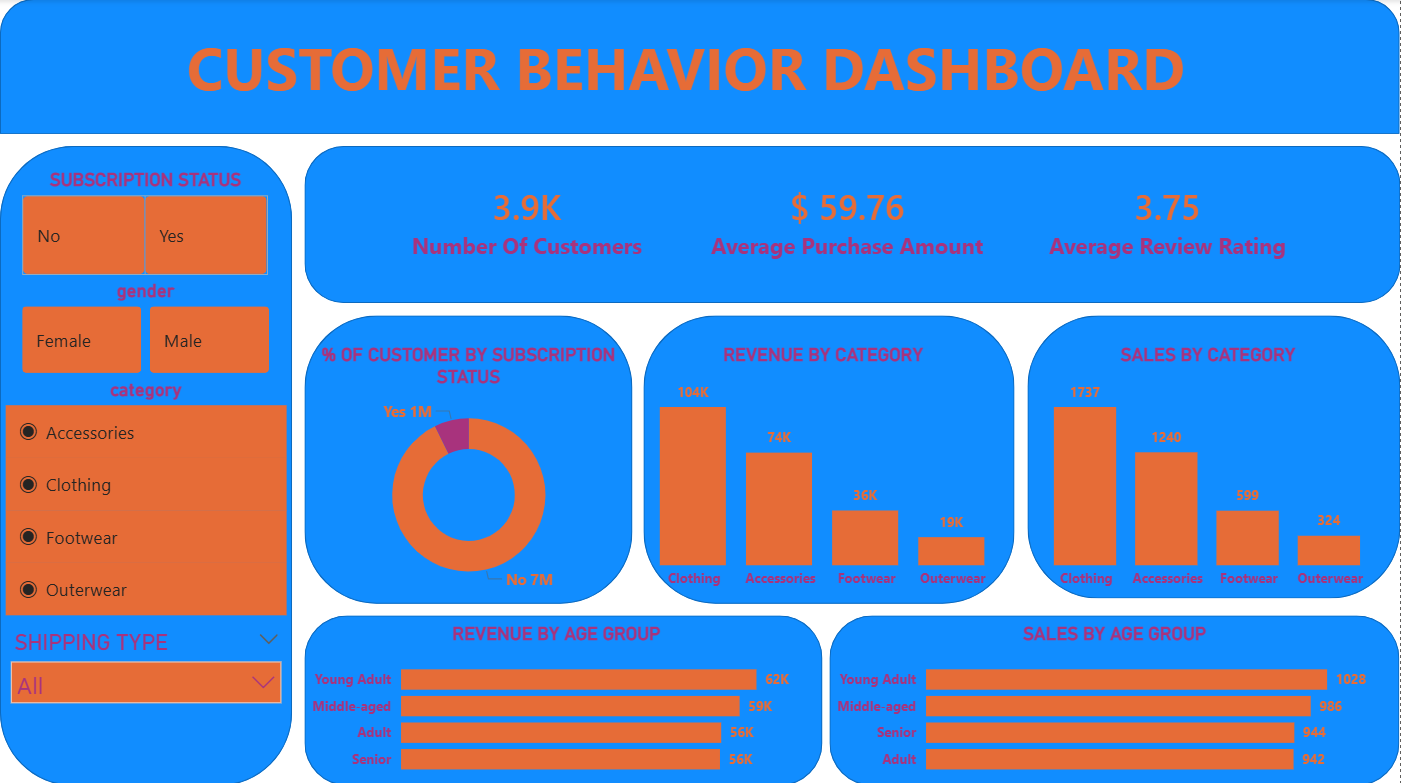

What the dashboard file says about the page in this screenshot:
{"tool":"powerbi","page":{"name":"Page 1","canvas":[1280,720],"ordinal":0},"visuals":[{"type":"shape","box":[277.9,134.2,1002.6,143.7],"z":0},{"type":"shape","box":[277.9,289,300,263.7],"z":1000},{"type":"shape","box":[939.5,289,341.1,259],"z":2000},{"type":"shape","box":[589,289,339.5,263.7],"z":3000},{"type":"shape","box":[759,563.9,521.3,155.7],"z":4000},{"type":"shape","box":[278.7,563.9,473.8,155.7],"z":5000},{"type":"shape","box":[0,0,1280.4,123.5],"z":6000},{"type":"textbox","box":[166.1,20.6,945.5,82.3],"z":7000},{"type":"cardVisual","fields":{"Data":["public customer.Number Of Customers","public customer.Average Purchase Amount","public customer.Average Review Rating"]},"box":[322.1,146.8,906.3,112.1],"z":8000},{"type":"donutChart","title":"% OF CUSTOMER BY SUBSCRIPTION STATUS","fields":{"Category":["public customer.subscription_status"],"Y":["Sum(public customer.customer_id)"]},"box":[277.9,315.8,300,236.8],"z":9000},{"type":"clusteredColumnChart","title":"REVENUE BY CATEGORY","fields":{"Y":["Sum(public customer.purchase_amount)"],"Category":["public customer.category"]},"box":[566.8,315.8,372.6,232.1],"z":10000},{"type":"clusteredColumnChart","title":"SALES BY CATEGORY","fields":{"Category":["public customer.category"],"Y":["CountNonNull(public customer.customer_id)"]},"box":[928.4,315.8,352.1,232.1],"z":11000},{"type":"clusteredBarChart","title":"REVENUE BY AGE GROUP","fields":{"Category":["public customer.age_group"],"Y":["Sum(public customer.purchase_amount)"]},"box":[278.7,570.5,460.7,149.2],"z":12000},{"type":"clusteredBarChart","title":"SALES BY AGE GROUP","fields":{"Y":["CountNonNull(public customer.customer_id)"],"Category":["public customer.age_group"]},"box":[759,570.5,521.3,149.2],"z":13000},{"type":"shape","box":[0,134.4,267.2,585.2],"z":14000},{"type":"advancedSlicerVisual","fields":{"Values":["public customer.gender"]},"box":[14.8,257.4,236.1,103.3],"z":15000},{"type":"listSlicer","fields":{"Values":["public customer.category"]},"box":[0,347.5,267.2,372.1],"z":16000},{"type":"slicer","fields":{"Values":["public customer.shipping_type"]},"box":[0,570.5,267.2,113.1],"z":17000},{"type":"advancedSlicerVisual","title":"SUBSCRIPTION STATUS","fields":{"Values":["public customer.subscription_status"]},"box":[14.8,155.7,236.1,103.3],"z":18000}]}

Visuals, with their boxes in screenshot pixels (x1, y1, x2, y2), scaled from the page's 1280x720 canvas onto the 1401x783 screenshot:
shape: crop(304, 146, 1400, 302)
shape: crop(304, 314, 633, 601)
shape: crop(1028, 314, 1400, 596)
shape: crop(645, 314, 1016, 601)
shape: crop(831, 613, 1400, 782)
shape: crop(305, 613, 824, 782)
shape: crop(0, 0, 1400, 134)
textbox: crop(182, 22, 1217, 112)
cardVisual - public customer.Number Of Customers x public customer.Average Purchase Amount: crop(353, 160, 1345, 282)
"% OF CUSTOMER BY SUBSCRIPTION STATUS" donutChart: crop(304, 343, 633, 601)
"REVENUE BY CATEGORY" clusteredColumnChart: crop(620, 343, 1028, 596)
"SALES BY CATEGORY" clusteredColumnChart: crop(1016, 343, 1400, 596)
"REVENUE BY AGE GROUP" clusteredBarChart: crop(305, 620, 809, 782)
"SALES BY AGE GROUP" clusteredBarChart: crop(831, 620, 1400, 782)
shape: crop(0, 146, 292, 782)
advancedSlicerVisual - public customer.gender: crop(16, 280, 275, 392)
listSlicer - public customer.category: crop(0, 378, 292, 782)
slicer - public customer.shipping_type: crop(0, 620, 292, 743)
"SUBSCRIPTION STATUS" advancedSlicerVisual: crop(16, 169, 275, 282)
